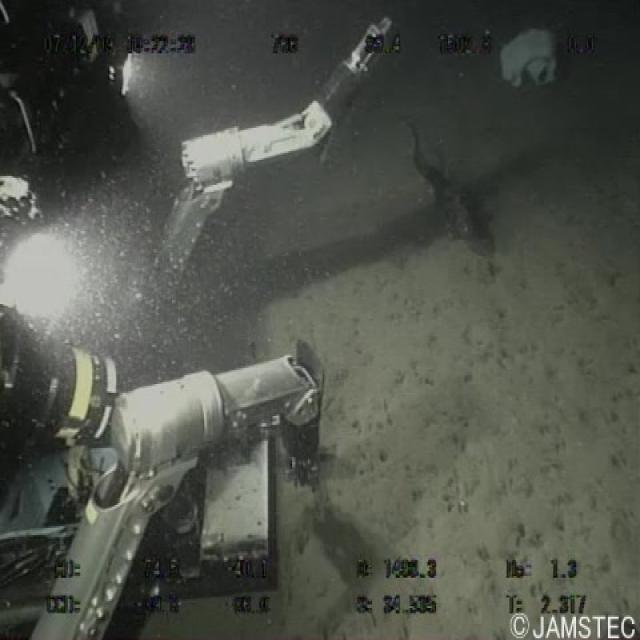plastic: (494, 16, 562, 94)
